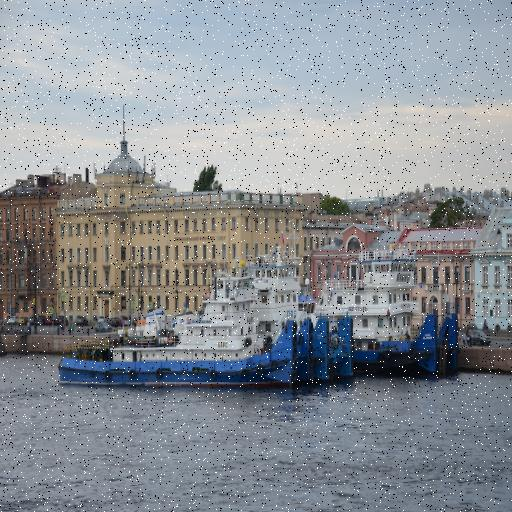tugboat: (56, 254, 316, 400)
